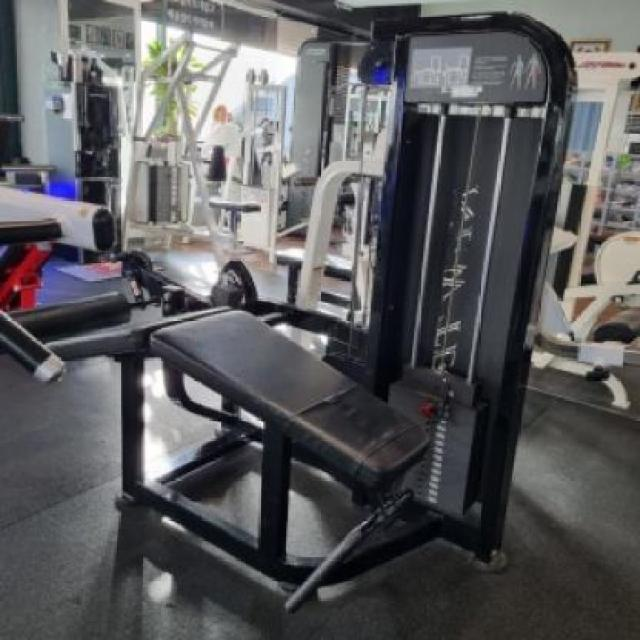reg curl machine: (0, 12, 578, 604)
